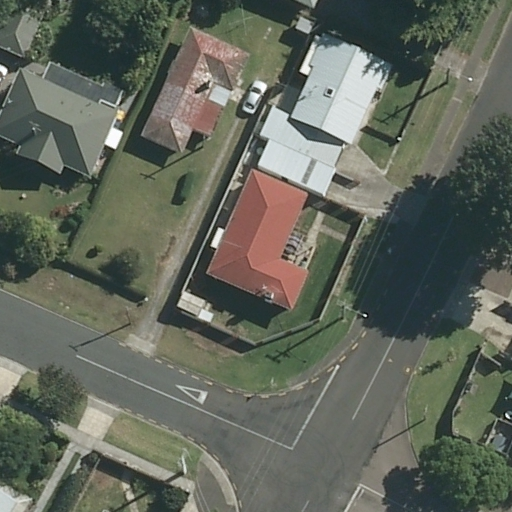DT: (434, 59, 463, 87), (331, 297, 357, 321)
